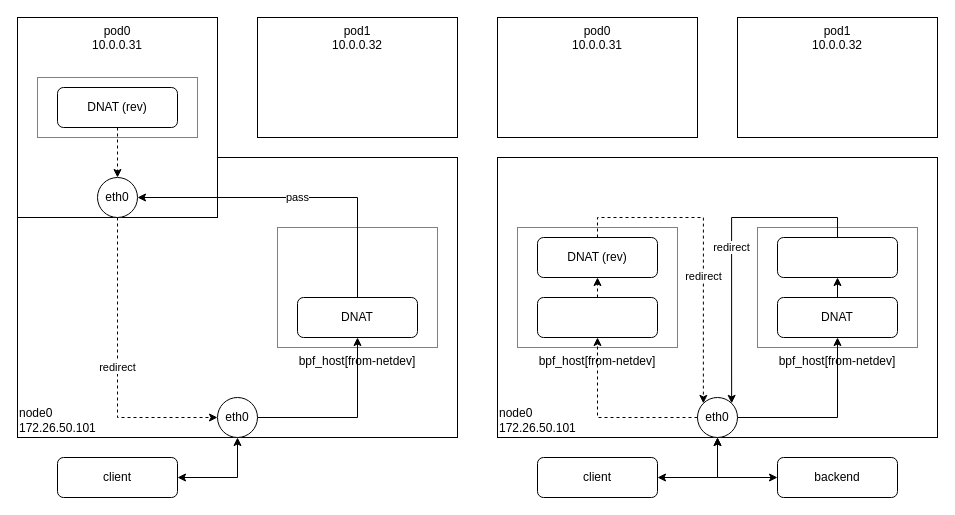
Some shapes in this 955 by 515 pixel diagram are drawn without their labels. The box of each missing label's shape, as (x1, y1, x2, y2) in pixels:
bpf_lxc[from-container]: (36, 76, 198, 138)
SNAT: (776, 236, 898, 278)
SNAT (rev): (536, 296, 658, 338)
